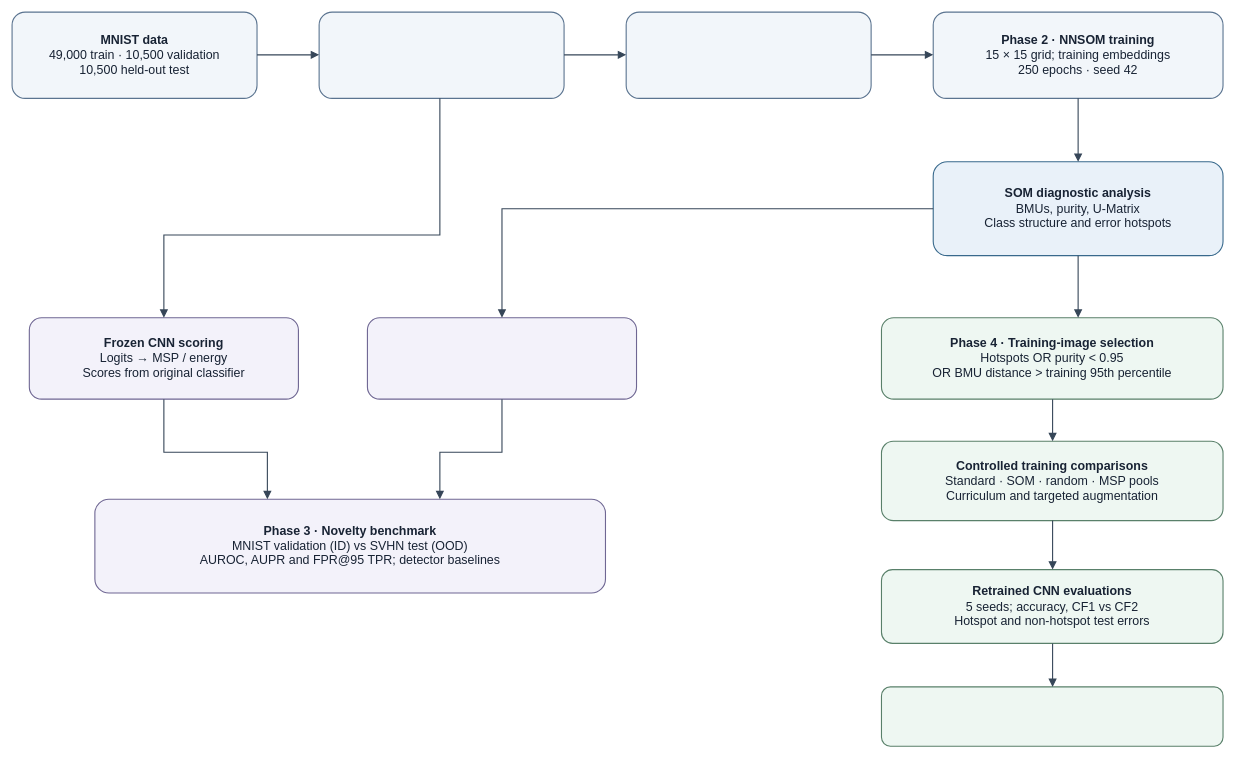
The diagram is 1236 pixels wide and 759 high, and some of its shapes have lost their labels. Each missing label, with the box of its shape:
Frozen CNN representation 84-D fc2 embeddings Train-only feature scaling: (625, 11, 871, 99)
Frozen SOM scoring Per-image QE / U-Matrix Frozen map + CNN features: (367, 317, 637, 399)
Phase 1 · LeNet-5 Train and evaluate CNN Confusion matrix, metrics: (318, 11, 564, 99)
Post-retraining SOM re-analysis New fc2 embeddings → 15 new SOMs: (881, 686, 1223, 746)
